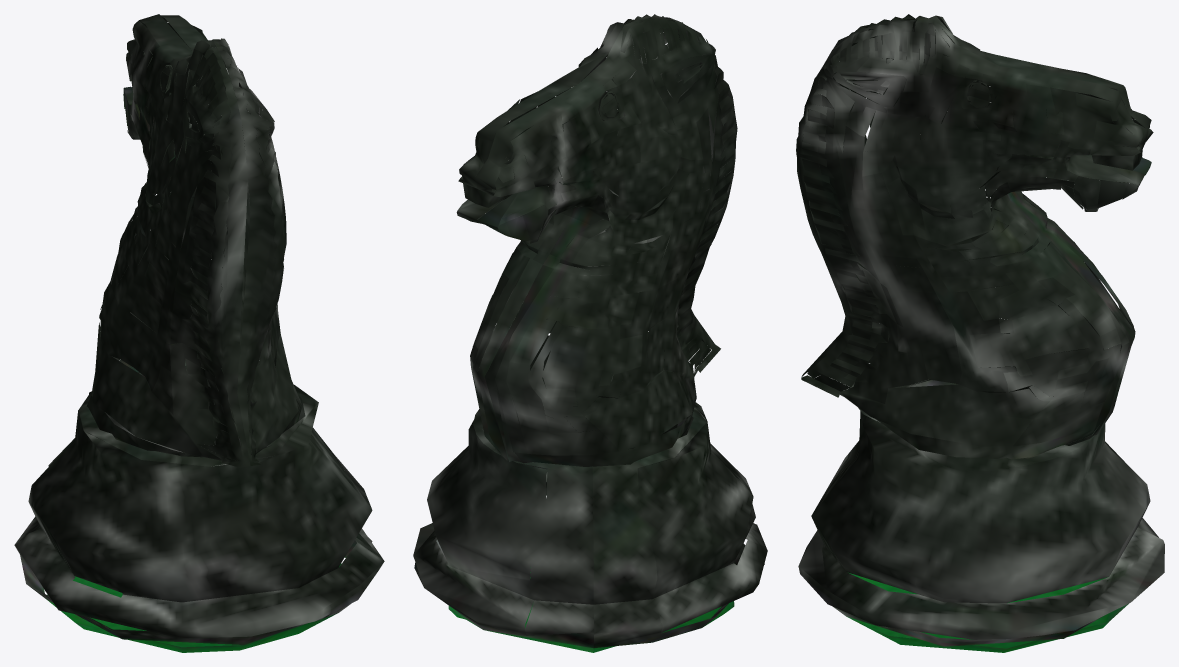
3 views of the same model, side by side, from view 1: azimuth 30°, elevation 25°; view 2: azimuth 150°, elevation 25°; view 3: azimuth 270°, elevation 25° (orthographic). The views are drawn at different scales.
Visible parts, largest first — view 1: BN.001; view 2: BN.001; view 3: BN.001.
Part boxes in pixels (<box>): BN.001: <box>14,14,384,652</box>; BN.001: <box>413,14,767,652</box>; BN.001: <box>796,14,1164,652</box>.
Size of the model in its own units: 0.0401 by 0.0687 by 0.0403.
Materials: 1 (1 with a texture image).
